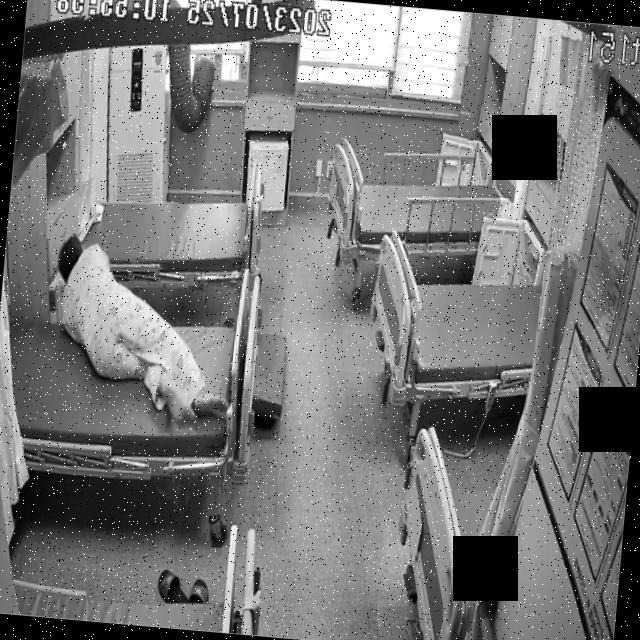bed: (0, 299, 242, 493), (358, 227, 546, 418), (325, 134, 520, 271), (72, 162, 264, 298)
danger: (39, 226, 242, 433)
patient: (41, 228, 242, 432)
